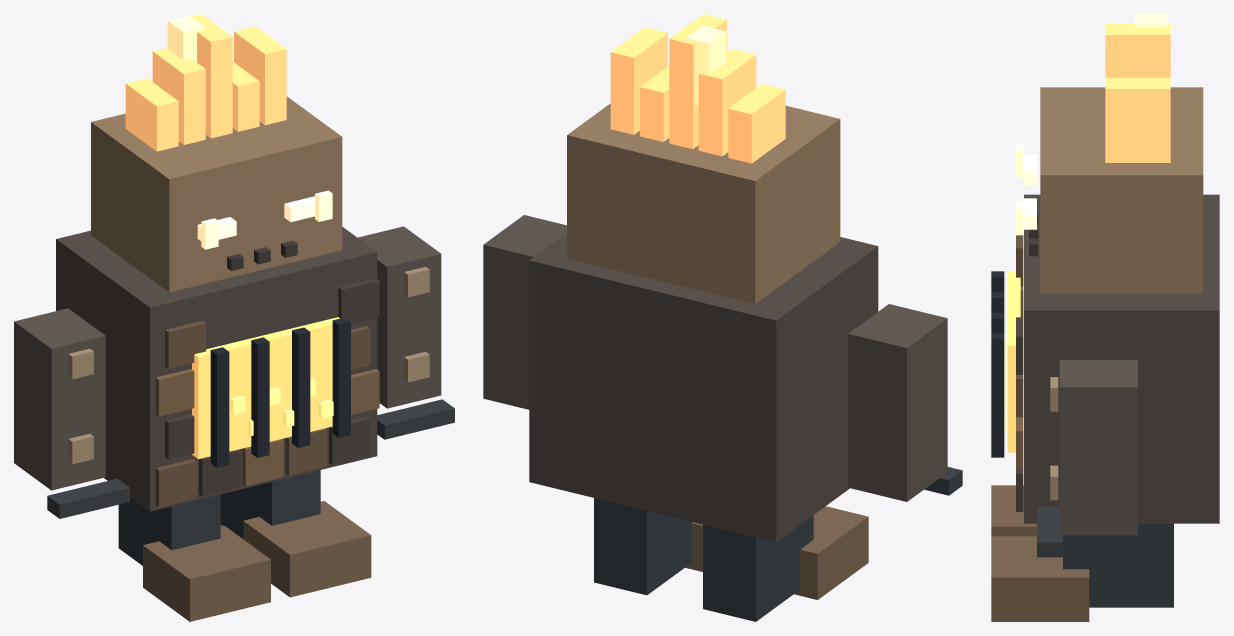
File: cinder-imp.glb
The picture shows the model from 3 angles, left to right: view 1: azimuth 30°, elevation 25°; view 2: azimuth 150°, elevation 25°; view 3: azimuth 270°, elevation 25°; orthographic projection. The views are drawn at different scales.
Visible parts, largest first — view 1: Mask, Furnace_Body, Iron_Feet, Riveted_Arms, Individual_Firebricks, Crown_Flame, Grille, Ember_Core, Wrist_Bands, Arm_Rivets, Inner_Flame, Core_Sparks (+3 smaller); view 2: Furnace_Body, Mask, Riveted_Arms, Iron_Feet, Crown_Flame, Inner_Flame; view 3: Furnace_Body, Mask, Iron_Feet, Riveted_Arms, Crown_Flame, Grille, Individual_Firebricks, Ember_Core, Wrist_Bands, Eyes, Arm_Rivets, Eye_Hotspots (+1 smaller).
Part boxes in pixels (x1,y1,x2,y2): Mask: (91,96,342,292); Furnace_Body: (56,227,377,511); Iron_Feet: (118,470,371,621); Riveted_Arms: (14,226,441,490); Individual_Firebricks: (155,278,379,507); Crown_Flame: (125,14,286,151); Grille: (210,317,350,467); Ember_Core: (192,317,339,459); Wrist_Bands: (47,399,454,518); Arm_Rivets: (68,266,429,464); Inner_Flame: (167,15,204,62); Core_Sparks: (230,378,333,435); Furnace_Body: (529,233,878,542); Mask: (567,103,840,304); Riveted_Arms: (483,215,947,501); Iron_Feet: (594,498,868,621); Crown_Flame: (610,14,785,163); Inner_Flame: (685,26,726,105); Furnace_Body: (1024,194,1219,523); Mask: (1040,87,1203,293); Iron_Feet: (991,485,1173,621); Riveted_Arms: (1059,360,1137,535); Crown_Flame: (1105,24,1170,162); Grille: (991,271,1004,457); Individual_Firebricks: (1016,235,1023,511); Ember_Core: (1007,271,1020,452); Wrist_Bands: (1037,506,1062,557); Eyes: (1024,154,1036,229); Arm_Rivets: (1050,377,1058,500); Eye_Hotspots: (1015,144,1023,235).
Bounding box in the file's own units: 1.46 × 1.85 × 0.7.
